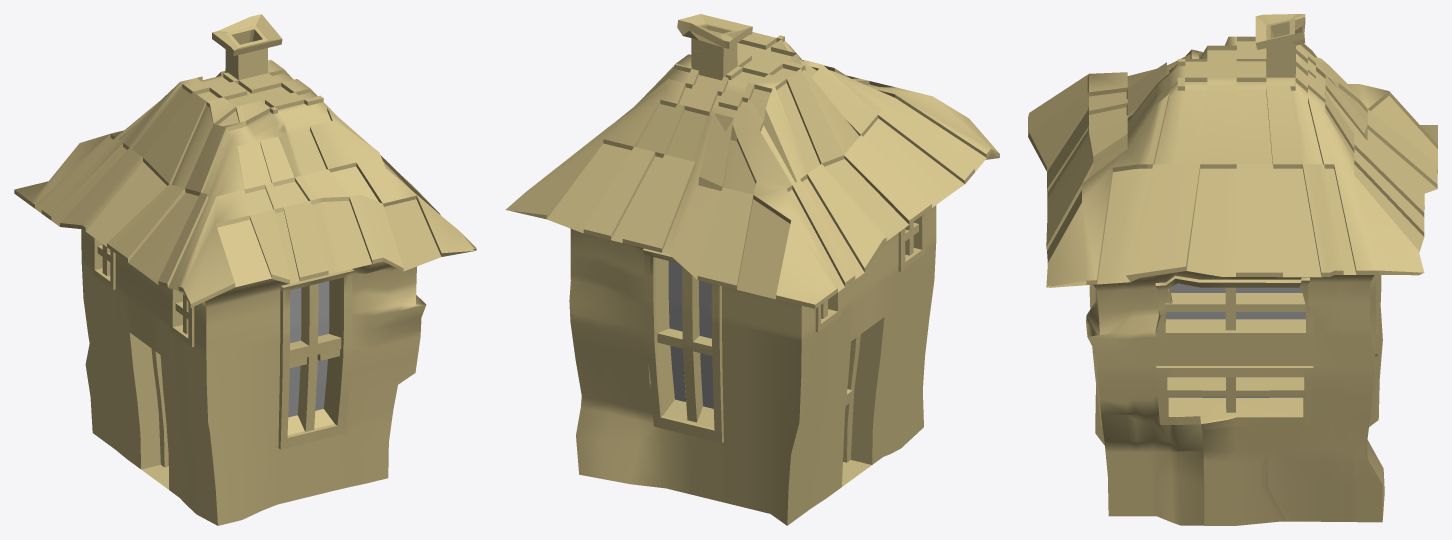
The model's file is Hus 1.fbx.
The picture shows the model from 3 angles, left to right: view 1: azimuth 30°, elevation 25°; view 2: azimuth 150°, elevation 25°; view 3: azimuth 270°, elevation 25°; orthographic projection. The views are drawn at different scales.
Parts seen in each view (by area): view 1: pCube3; view 2: pCube3; view 3: pCube3.
Part boxes in pixels (<box>): pCube3: <box>14,14,476,525</box>; pCube3: <box>505,14,999,525</box>; pCube3: <box>1028,14,1437,525</box>.
Bounding box in the file's own units: 561 × 758 × 603.
